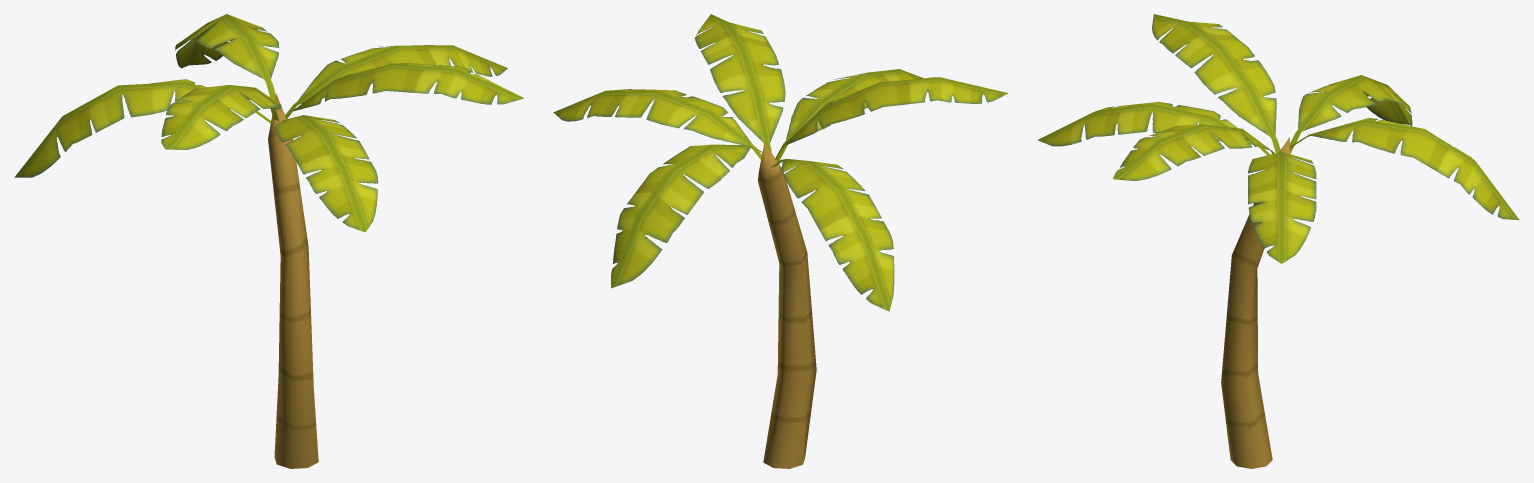
The model's file is Arvore_7.fbx.
3 renders of one model, left to right at view 1: azimuth 30°, elevation 25°; view 2: azimuth 150°, elevation 25°; view 3: azimuth 270°, elevation 25°, orthographic. The views are drawn at different scales.
Visible parts, largest first — view 1: Arvore_7; view 2: Arvore_7; view 3: Arvore_7.
Part boxes in pixels (box(x1,y1,x2,y2)): Arvore_7: box(14, 14, 523, 468); Arvore_7: box(553, 14, 1008, 468); Arvore_7: box(1038, 14, 1519, 468).
Size of the model in its own units: 204 by 189 by 218.
